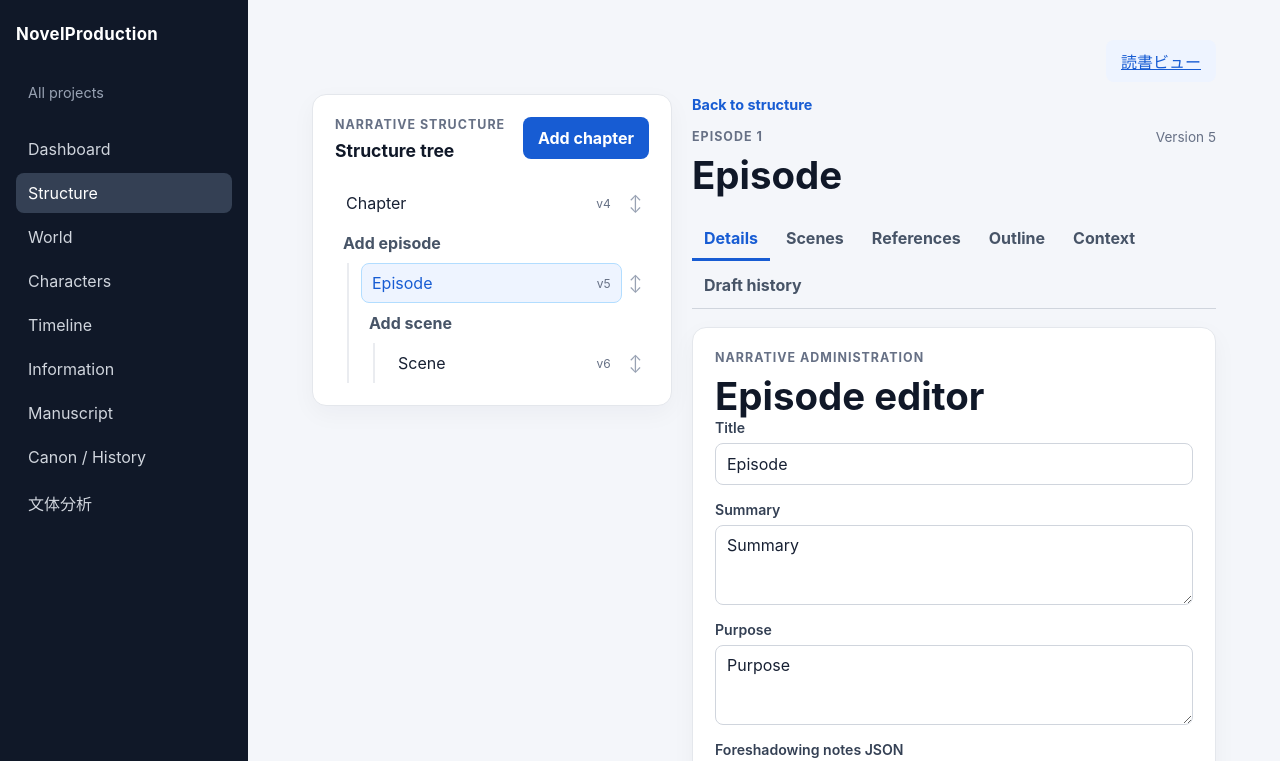
Scenario: episode aggregated detail › renders effective state, relationships, and known information as records
Check: the heading "Episode" is shown, box [692,152,842,198]
Click the button "Context" at (1104, 240), box [1061,218,1147,261]
(page scrolled)
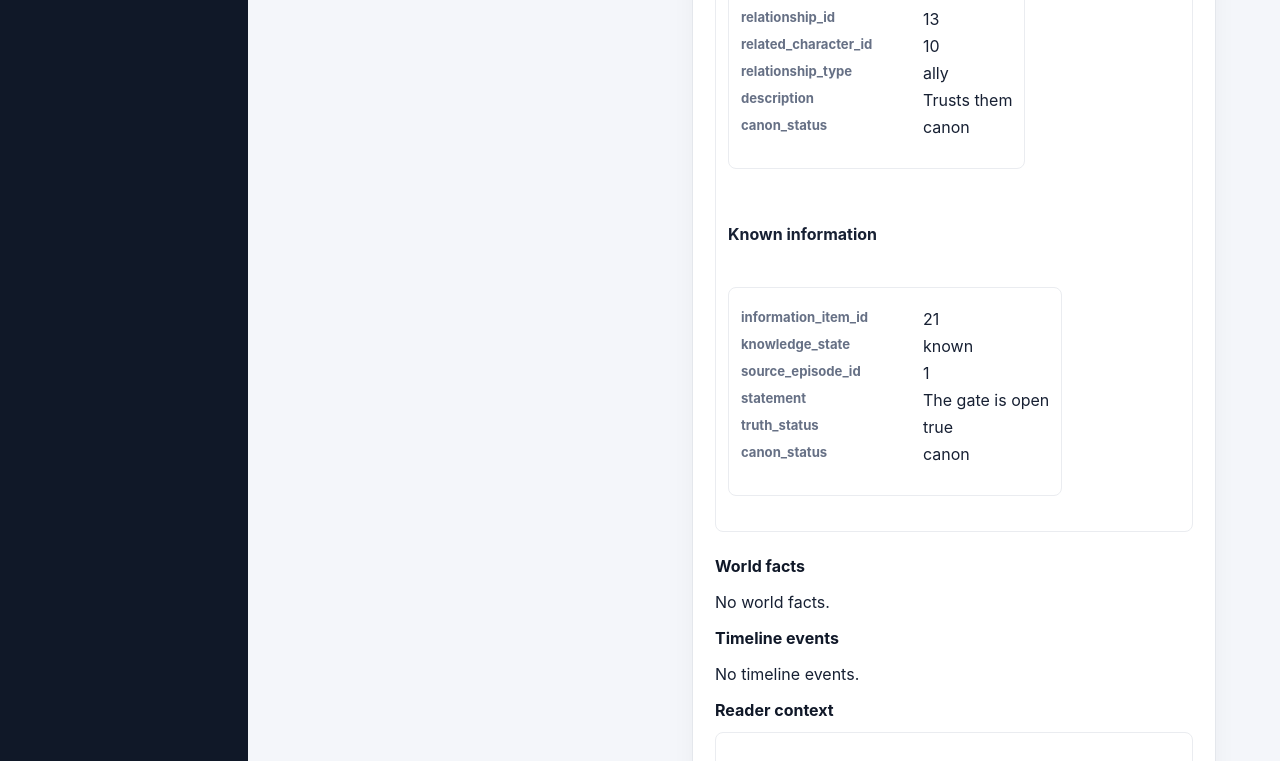
Check: the text "related_character_id" is shown, box [741,36,872,52]
Check: the text "Trusts them" is shown, box [923,90,1012,110]
Check: the text "information_item_id" is shown, box [741,309,868,325]
